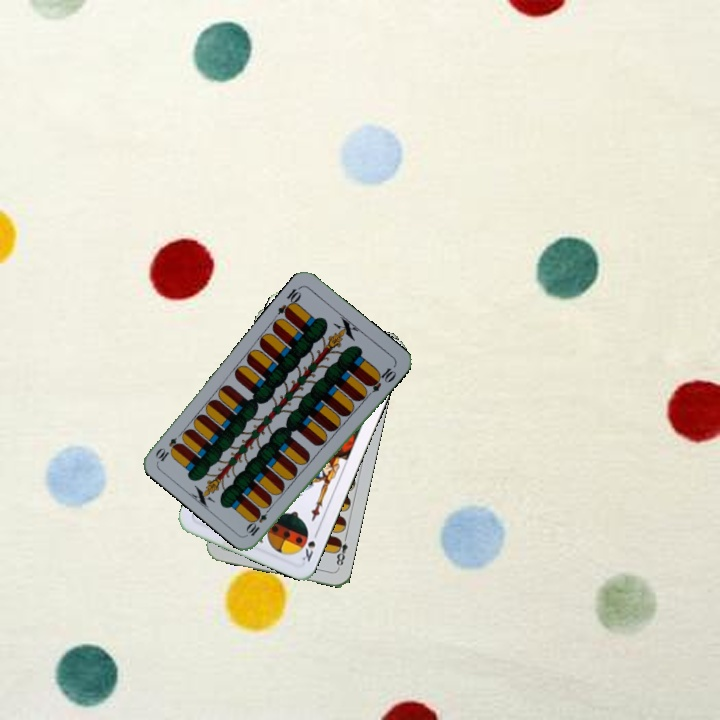E10: (273, 282, 304, 320), (243, 502, 274, 539)
E8: (330, 531, 350, 571)
SK: (298, 526, 321, 564)
